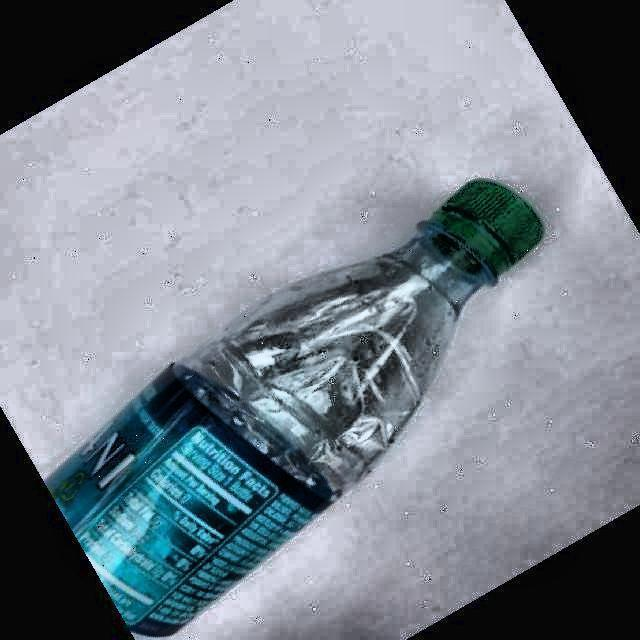plastic: (46, 181, 543, 636)
